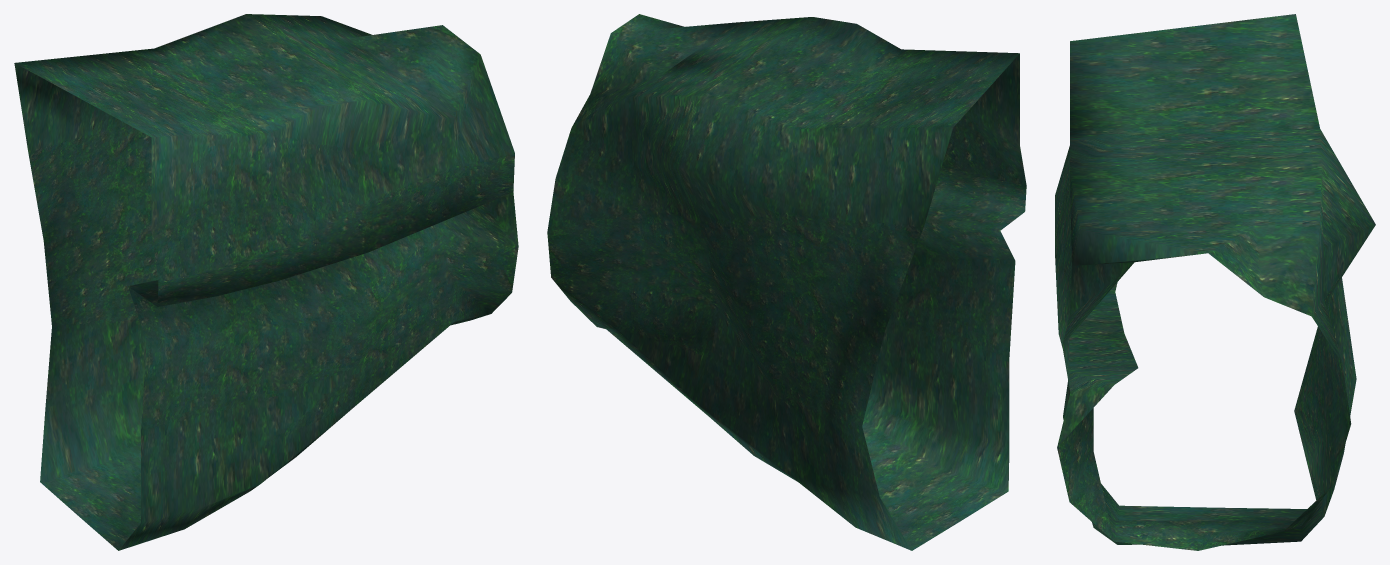
File: MIRKWOOD_MIRK_PLAYSURFACE73.fbx
3 views of the same model, side by side, from view 1: azimuth 30°, elevation 25°; view 2: azimuth 150°, elevation 25°; view 3: azimuth 270°, elevation 25° (orthographic). The views are drawn at different scales.
Visible parts, largest first — view 1: MIRKWOOD_MIRK_PLAYSURFACE73; view 2: MIRKWOOD_MIRK_PLAYSURFACE73; view 3: MIRKWOOD_MIRK_PLAYSURFACE73.
Boxes of the visible parts, bbox=[...] form: MIRKWOOD_MIRK_PLAYSURFACE73: bbox=[14, 14, 518, 550]; MIRKWOOD_MIRK_PLAYSURFACE73: bbox=[547, 14, 1026, 550]; MIRKWOOD_MIRK_PLAYSURFACE73: bbox=[1055, 14, 1375, 550].
Size of the model in its own units: 98547 by 103306 by 62750.
Materials: 1 (1 with a texture image).
